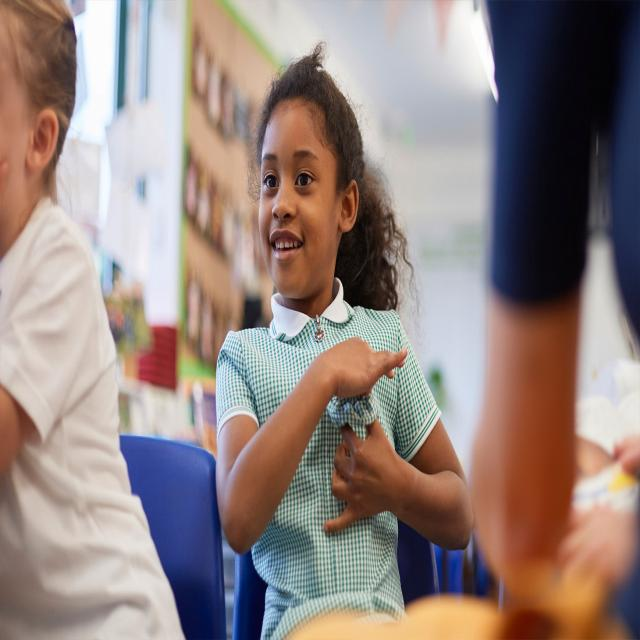child: (217, 48, 471, 640), (0, 0, 190, 640)
